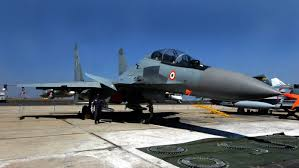maybay_muctieu: (12, 41, 291, 124)
